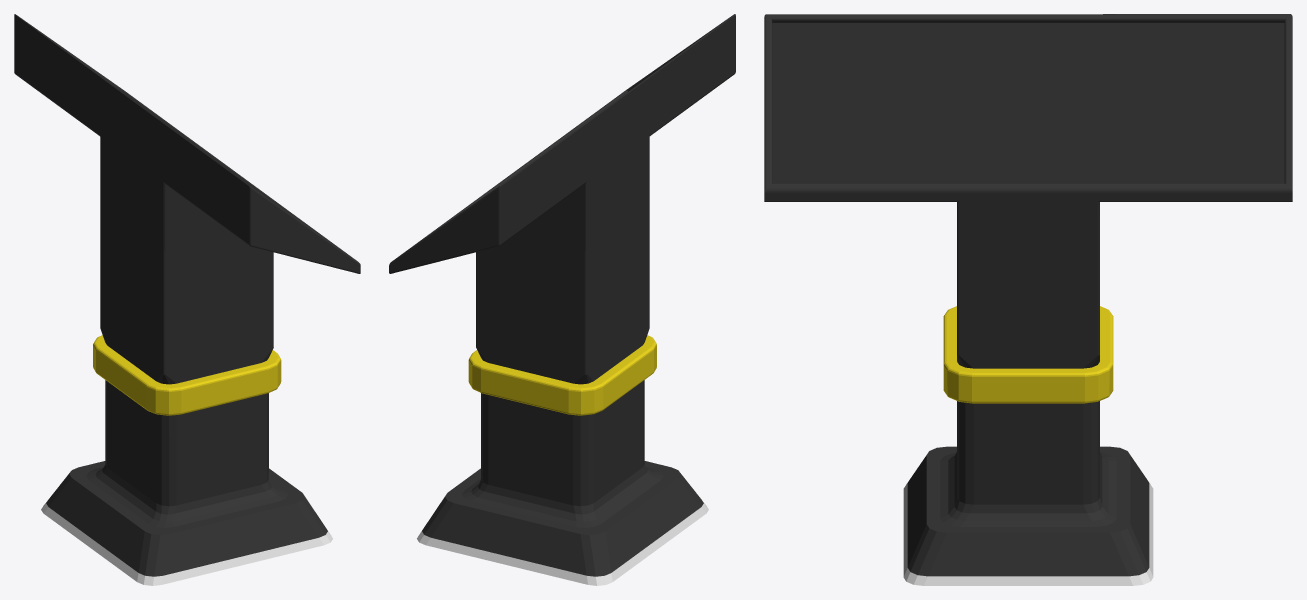
Rendered from totemelevadorv1.fbx.
3 renders of one model, left to right at view 1: azimuth 30°, elevation 25°; view 2: azimuth 150°, elevation 25°; view 3: azimuth 270°, elevation 25°, orthographic. The views are drawn at different scales.
Visible parts, largest first — view 1: Cube; view 2: Cube; view 3: Cube.
Part boxes in pixels (left/top/right/bottom): Cube: left=14, top=14, right=360, bottom=585; Cube: left=389, top=14, right=735, bottom=585; Cube: left=764, top=14, right=1292, bottom=585.
Size of the model in its own units: 349 by 755 by 739.
